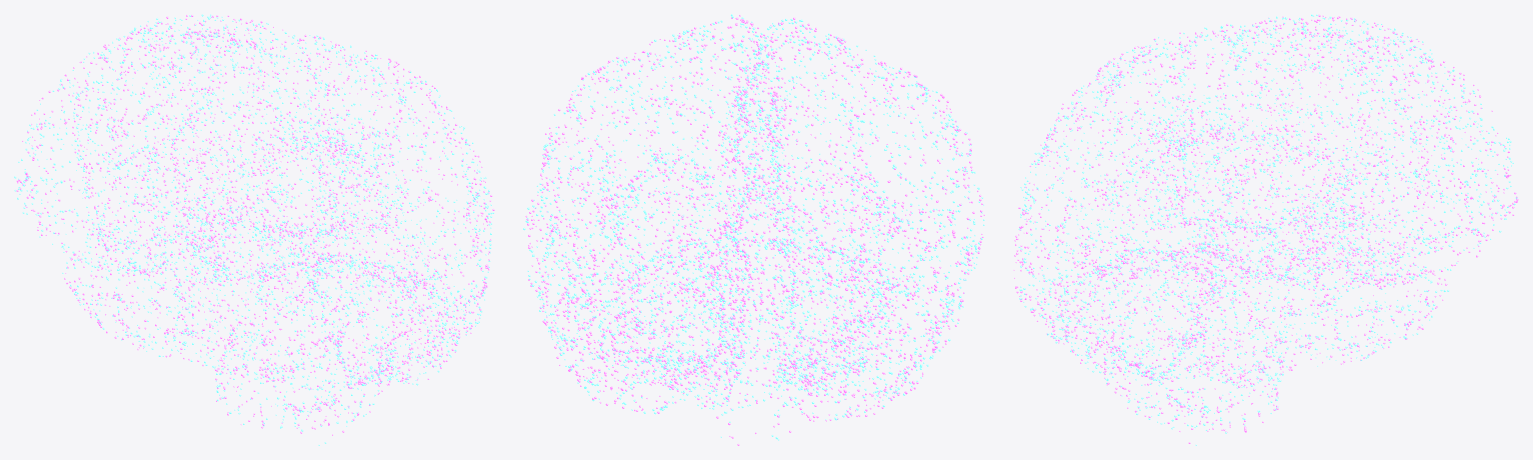
File: Brain.fbx
The picture shows the model from 3 angles, left to right: view 1: azimuth 30°, elevation 25°; view 2: azimuth 150°, elevation 25°; view 3: azimuth 270°, elevation 25°; orthographic projection. The views are drawn at different scales.
Parts seen in each view (by area): view 1: Icosphere.001; view 2: Icosphere.001; view 3: Icosphere.001.
Part boxes in pixels (x1=…): Icosphere.001: x1=14, y1=14, x2=494, y2=445; Icosphere.001: x1=523, y1=14, x2=984, y2=445; Icosphere.001: x1=1013, y1=14, x2=1518, y2=445.
Bounding box in the file's own units: 109 × 110 × 130.
